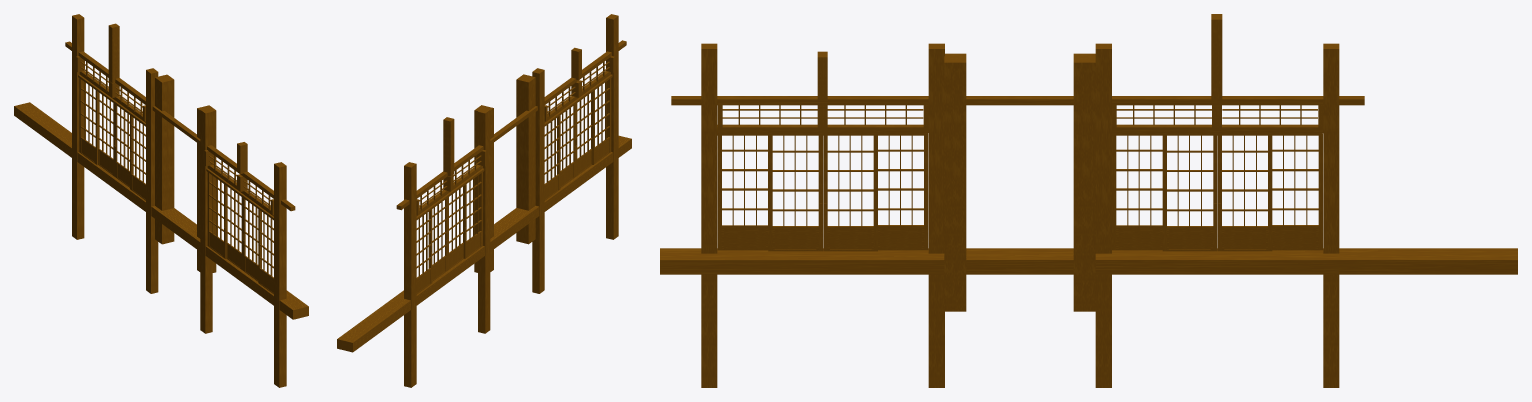
Rendered from doujou_wood_left.obj.
The picture shows the model from 3 angles, left to right: view 1: azimuth 30°, elevation 25°; view 2: azimuth 150°, elevation 25°; view 3: azimuth 270°, elevation 25°; orthographic projection. The views are drawn at different scales.
Visible parts, largest first — view 1: 立方体.324; view 2: 立方体.324; view 3: 立方体.324.
Boxes of the visible parts, x1=… form: 立方体.324: x1=14, y1=14, x2=308, y2=387; 立方体.324: x1=337, y1=14, x2=631, y2=387; 立方体.324: x1=660, y1=14, x2=1517, y2=387.
Bounding box in the file's own units: 23.53 × 307 × 650.
Materials: 1 (1 with a texture image).
